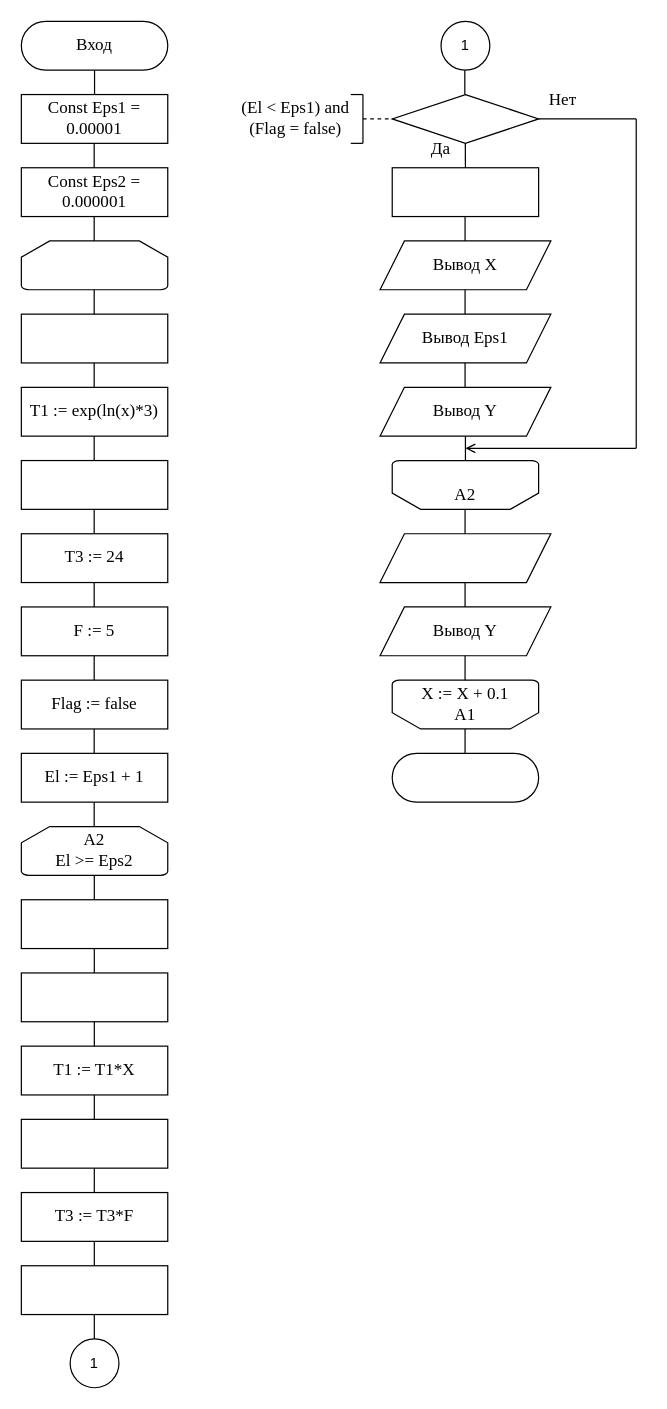
The diagram is 667 pixels wide and 1409 high, and some of its shapes have lost their labels. The box of each missing label's shape, as (x1, y1, x2, y2) in pixels:
El := T1/(T2*T3): (20, 899, 168, 949)
F := F + 1: (20, 1265, 168, 1315)
Flag := true: (391, 167, 539, 217)
T2 := 2: (20, 459, 168, 509)
T2 := T2 + 1: (20, 1118, 168, 1168)
Y := sqr(x)/6: (20, 313, 168, 363)
Y := Y + T1/(T2*T3): (20, 972, 168, 1022)
А1 X := 0.1 X <= 0.9: (20, 240, 168, 290)
Вывод Eps2: (379, 533, 551, 583)
Выход: (391, 752, 539, 802)
